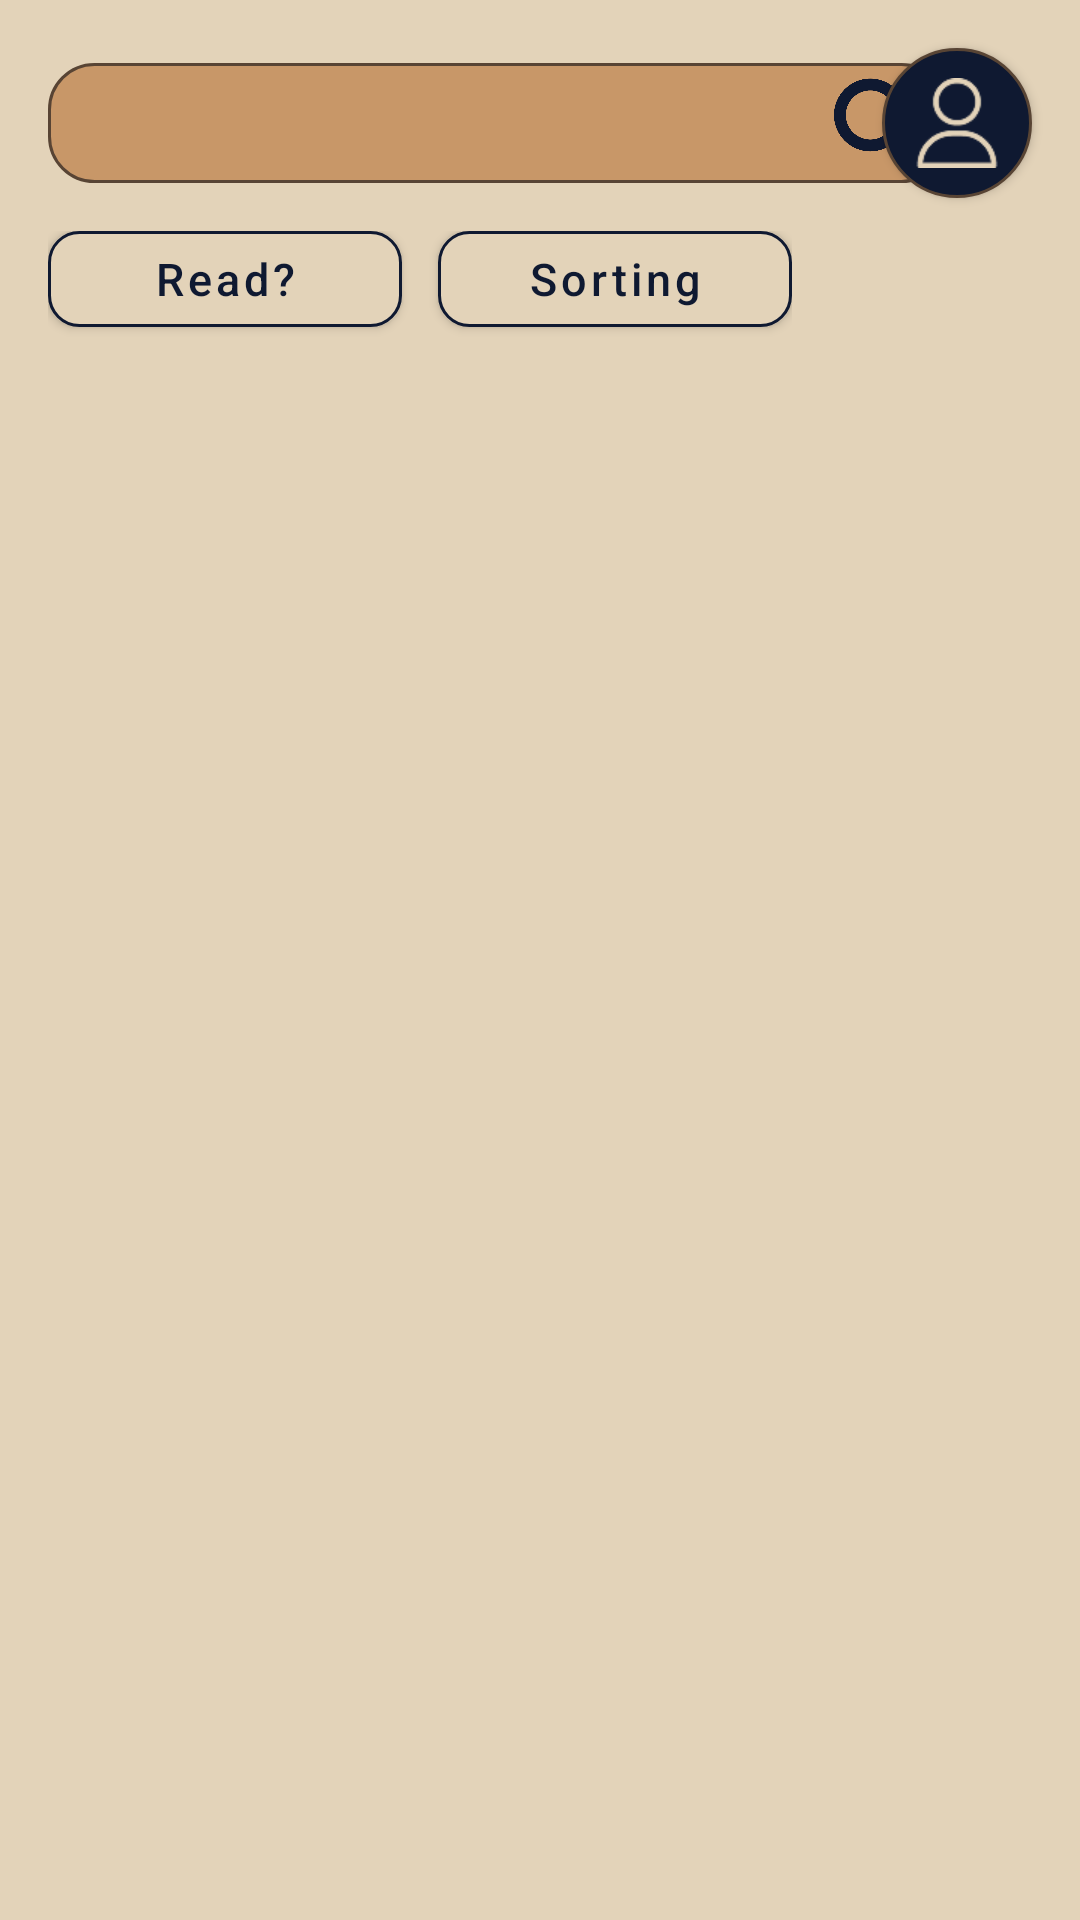

Named icons in this screenshot (1080 × 1920) and their centers, (x=x, y=y):
user: (x=957, y=123)
